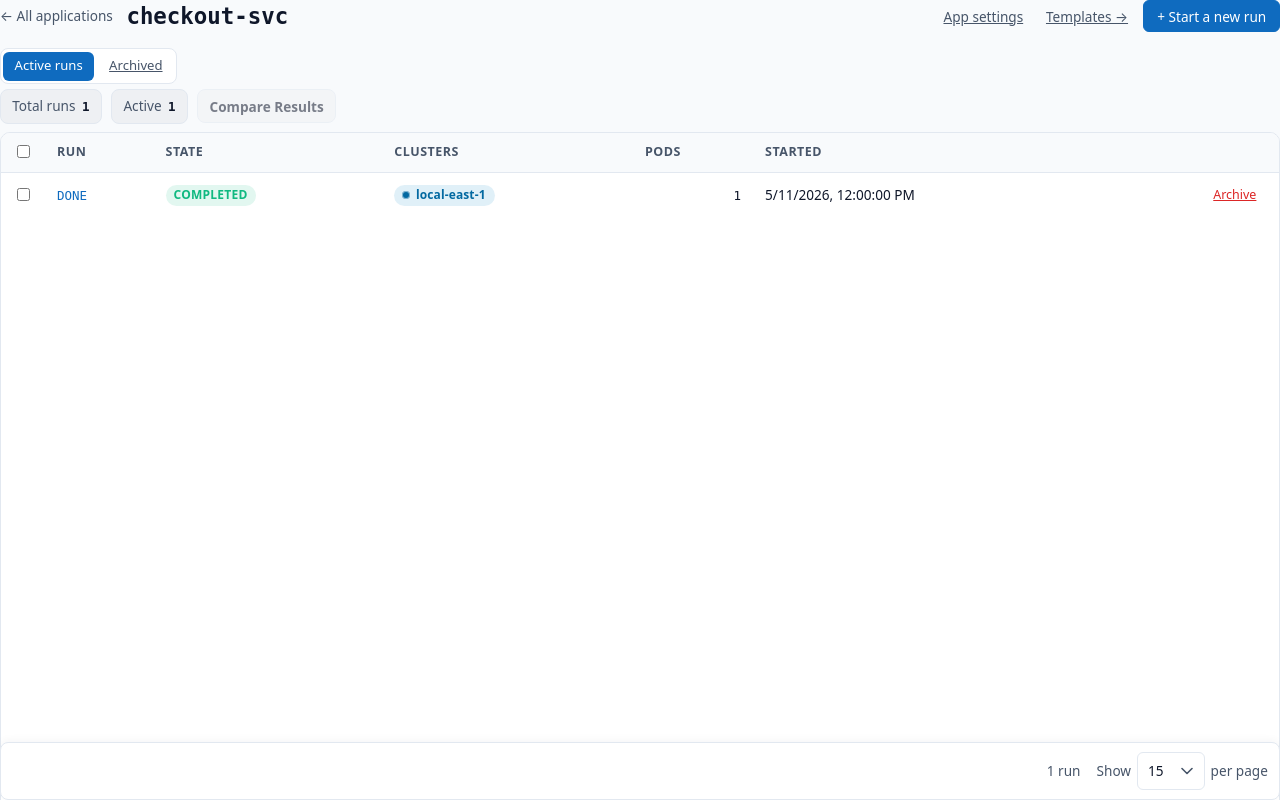
Test: ApplicationDetailPage › clicking a row's Archive opens the confirm dialog for that run
Expected: the link "DONE" is shown, [57,188,87,203]
Click the button with aria-label "archive run DONE": (1235, 195) [1203,181,1267,210]
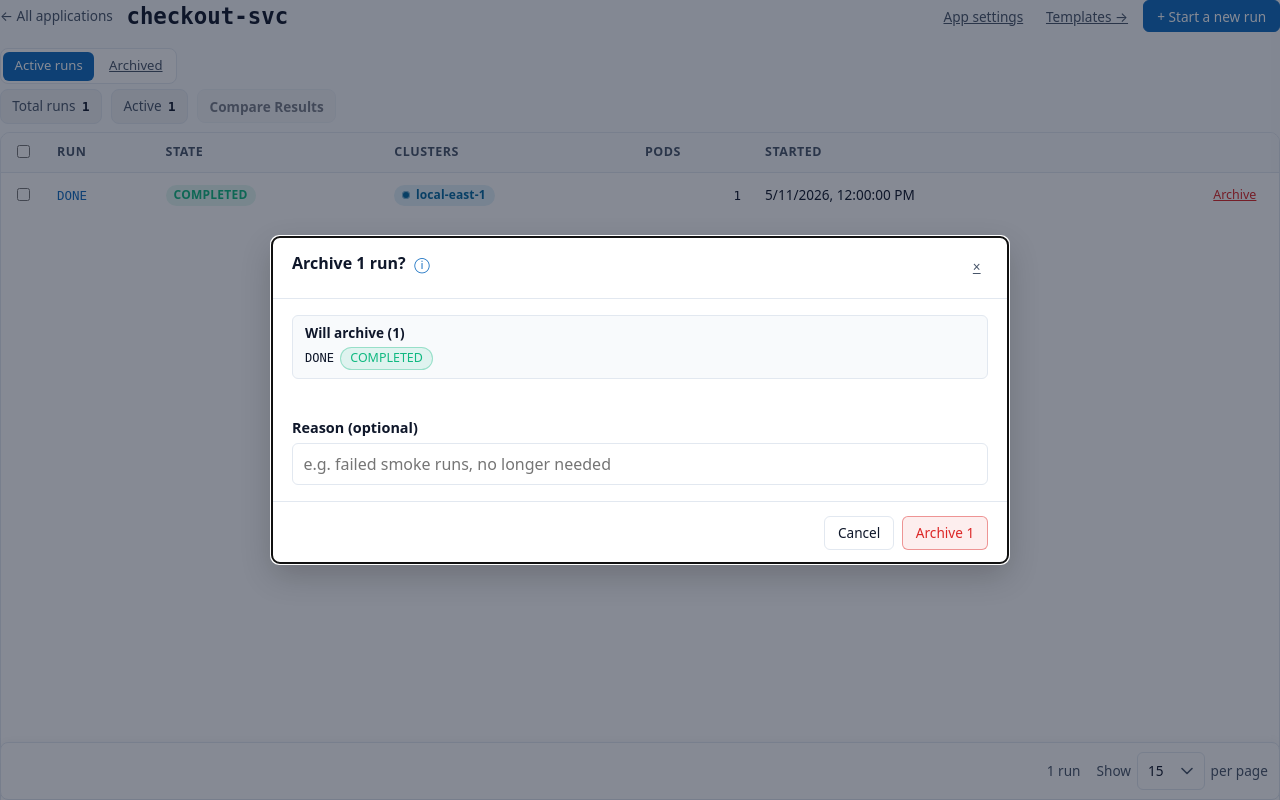
Result: the heading "Archive 1 run?" is shown at [292,253,406,273]
